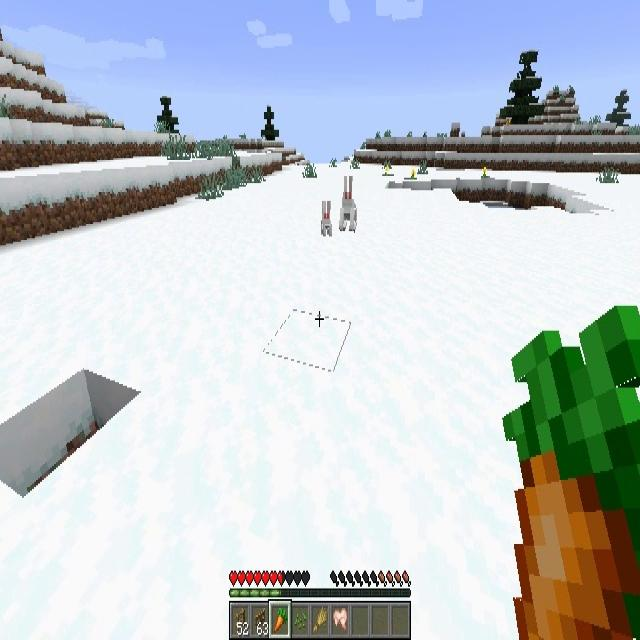rabbit: (337, 175, 357, 232), (320, 198, 332, 235)
